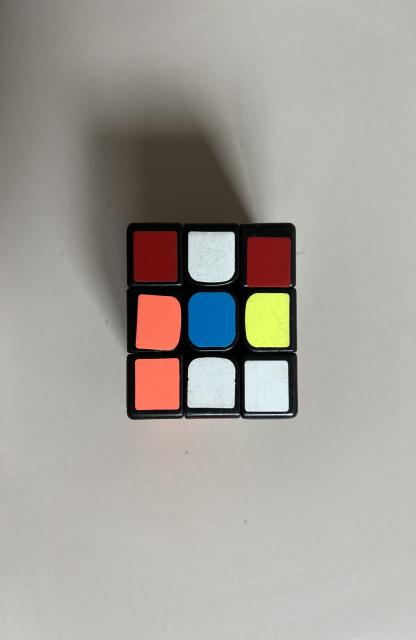Blue: (188, 292, 236, 348)
Orange: (135, 295, 181, 350), (135, 359, 180, 410)
Red: (247, 236, 291, 288), (133, 231, 178, 281)
White: (187, 231, 235, 282), (187, 358, 235, 409), (245, 360, 289, 412)
Yellow: (245, 292, 289, 348)
